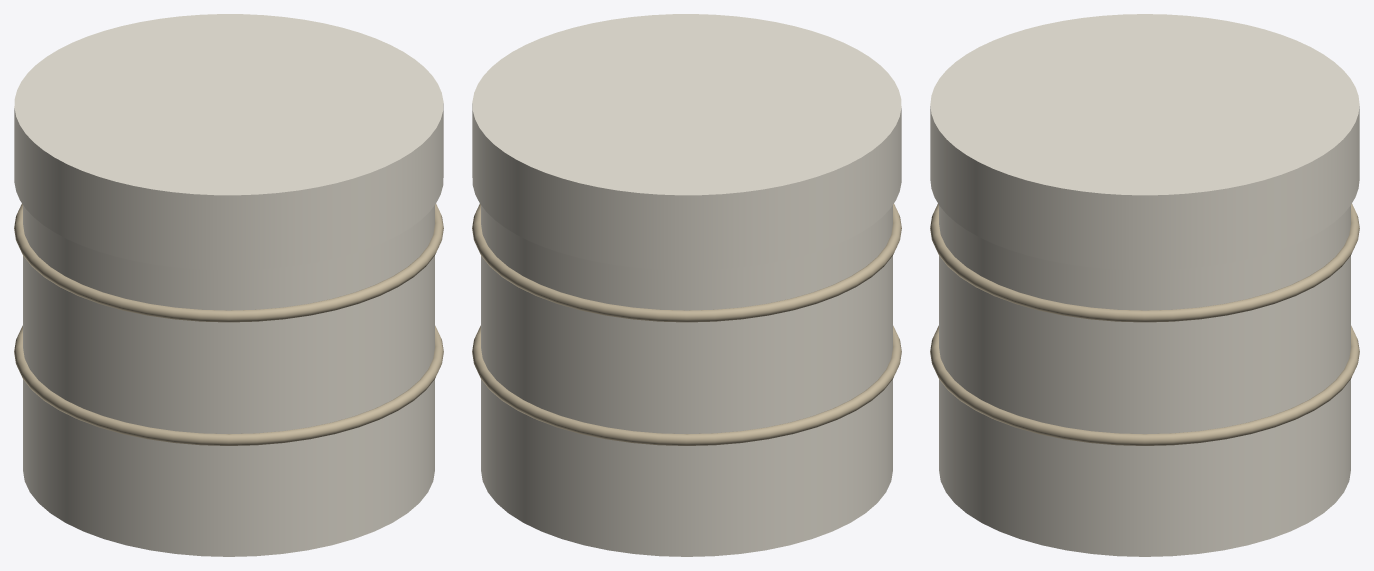
The model's file is wh-layered-pouffe.glb.
3 views of the same model, side by side, from view 1: azimuth 30°, elevation 25°; view 2: azimuth 150°, elevation 25°; view 3: azimuth 270°, elevation 25° (orthographic).
Parts seen in each view (by area): view 1: Pouffe upholstery.002, Layer piping.002; view 2: Pouffe upholstery.002, Layer piping.002; view 3: Pouffe upholstery.002, Layer piping.002.
Part boxes in pixels (x1=…): Pouffe upholstery.002: x1=14, y1=14, x2=443, y2=556; Layer piping.002: x1=14, y1=204, x2=443, y2=445; Pouffe upholstery.002: x1=472, y1=14, x2=901, y2=556; Layer piping.002: x1=472, y1=204, x2=901, y2=445; Pouffe upholstery.002: x1=930, y1=14, x2=1359, y2=556; Layer piping.002: x1=930, y1=204, x2=1359, y2=445.
Size of the model in its own units: 0.48 by 0.45 by 0.48.
